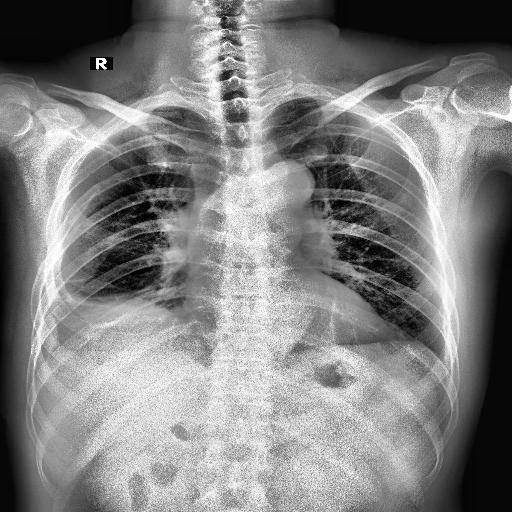0- Aortic enlargement: (246, 160, 317, 214), (259, 161, 315, 216), (253, 162, 313, 202)
10- Pleural effusion: (34, 256, 187, 372), (41, 275, 186, 347), (38, 252, 72, 336)
13- Pulmonary fibrosis: (70, 289, 168, 310)
3- Cardiomegaly: (181, 292, 391, 336)
7- Lung Opacity: (70, 289, 168, 310), (82, 288, 160, 306)
